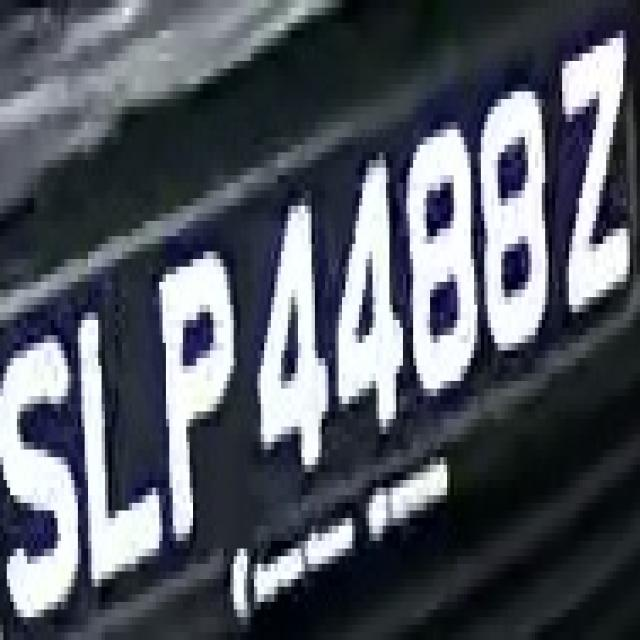4: (240, 145, 332, 510), (322, 138, 420, 472)
8: (390, 122, 484, 411), (471, 84, 555, 373)
L: (68, 282, 166, 594)
P: (146, 236, 244, 579)
S: (7, 282, 88, 625)
Z: (555, 15, 640, 312)
